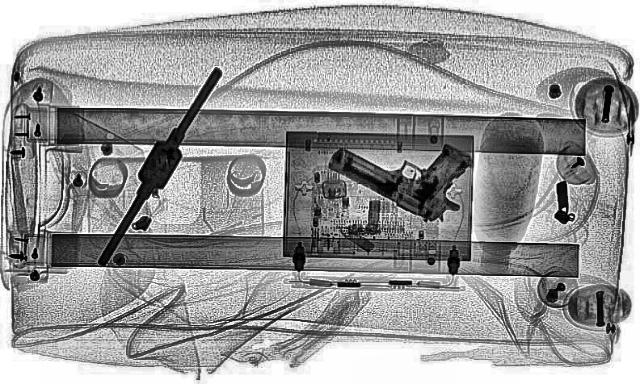Gun: (308, 116, 512, 226)
